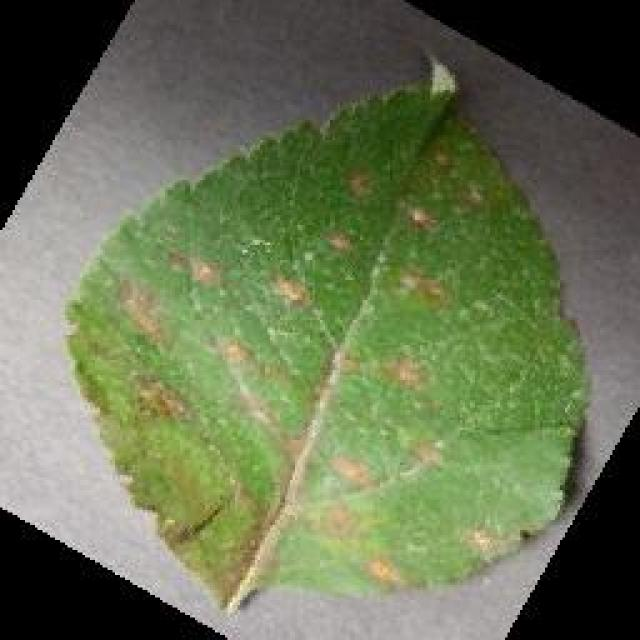apple rust disease: (60, 53, 592, 615)
